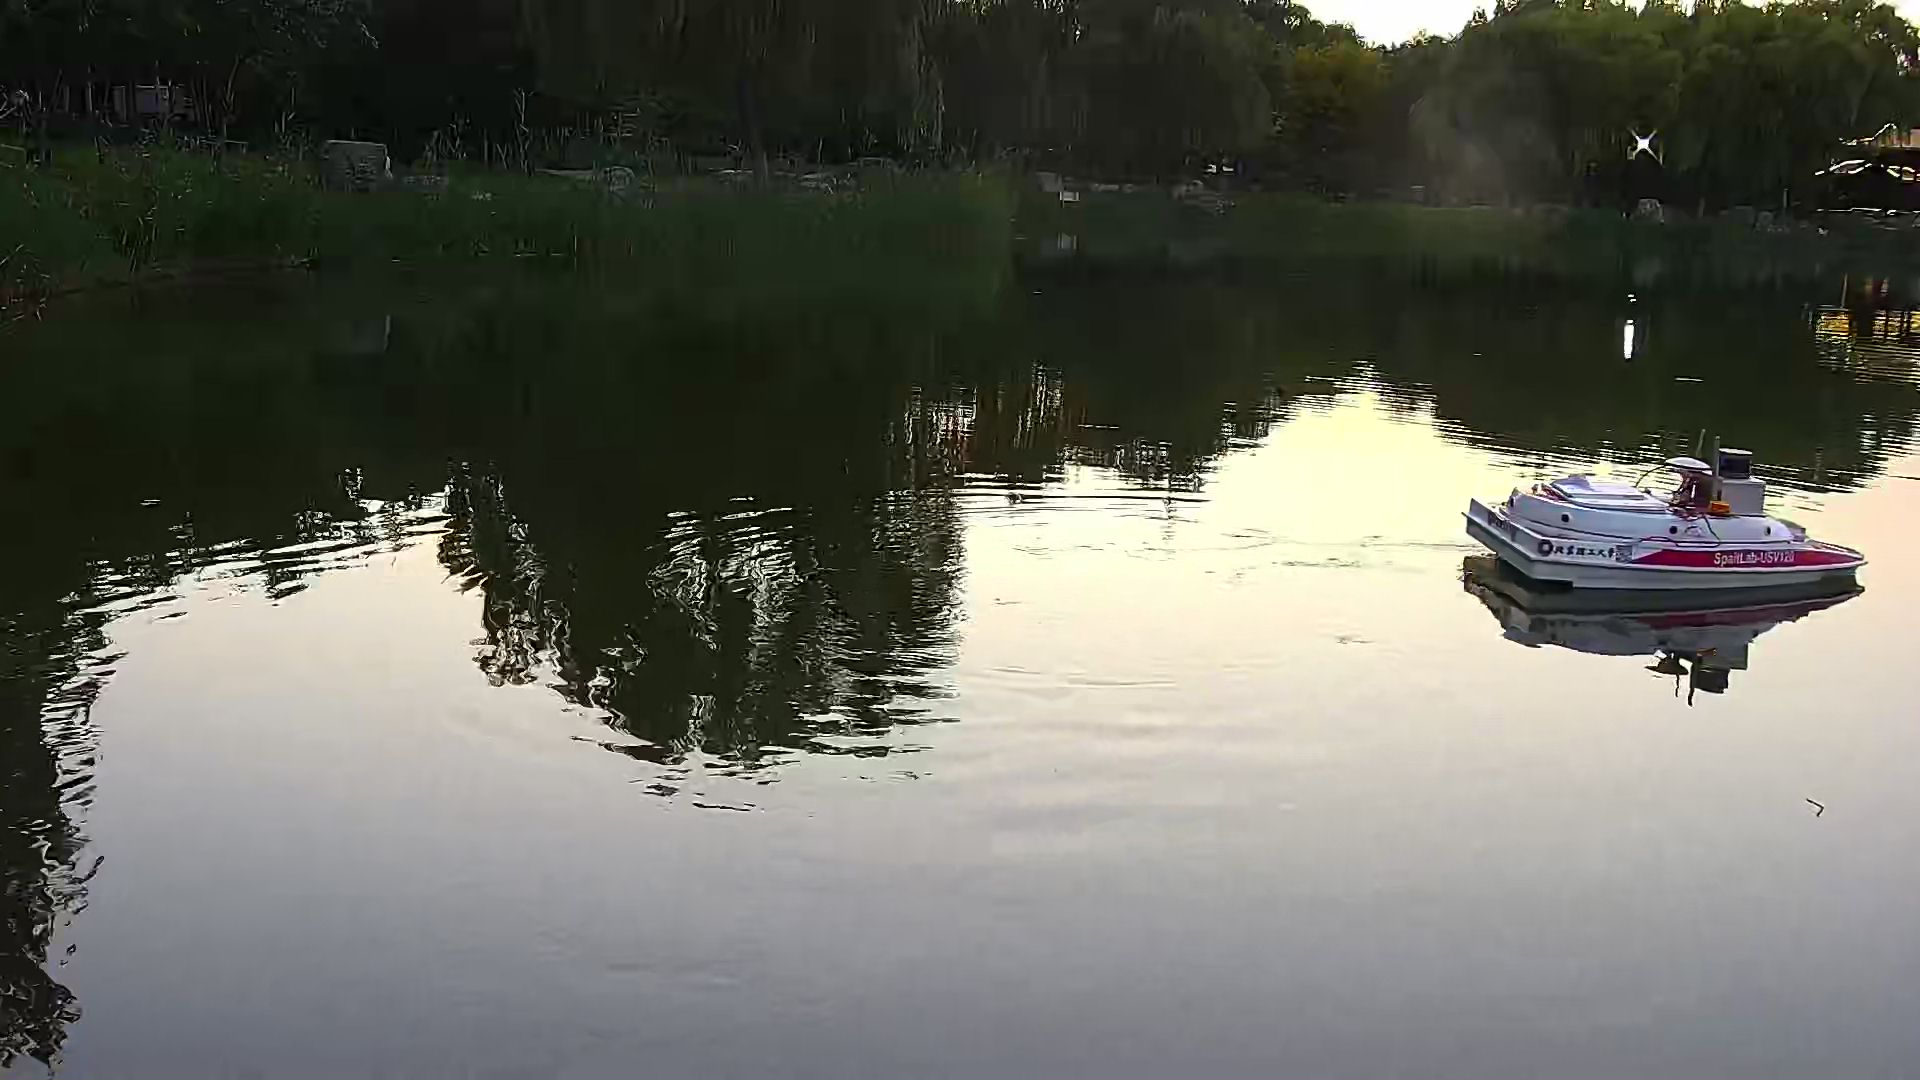boat: (1465, 440, 1869, 618)
